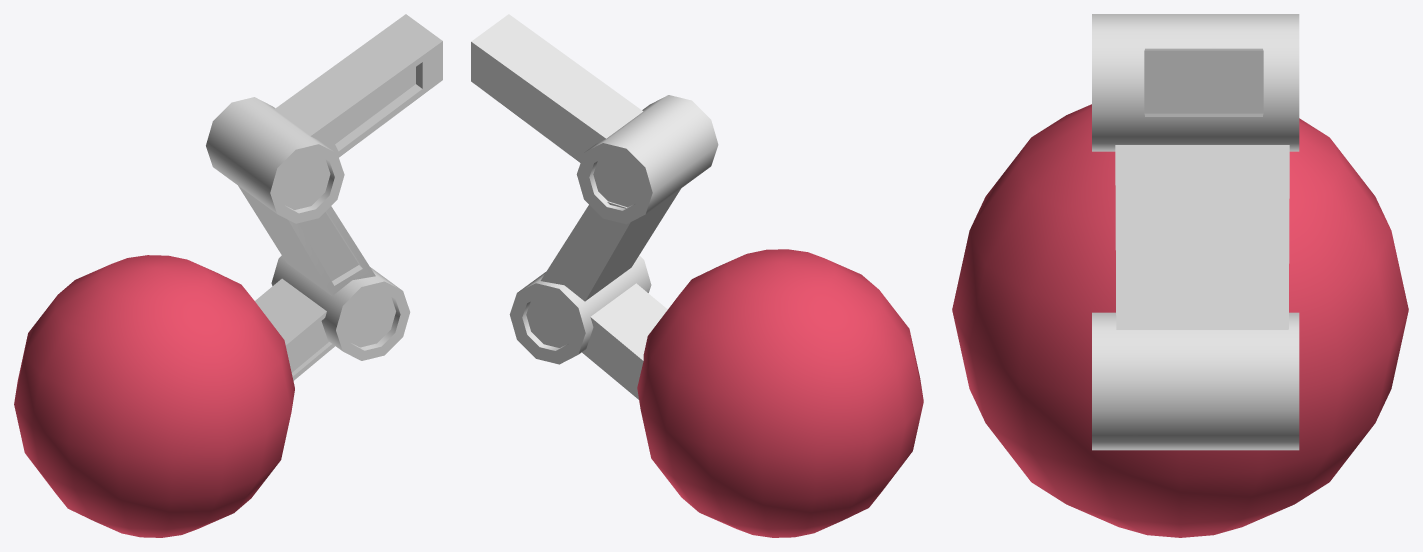
The model's file is circle cryochamber.fbx.
The picture shows the model from 3 angles, left to right: view 1: azimuth 30°, elevation 25°; view 2: azimuth 150°, elevation 25°; view 3: azimuth 270°, elevation 25°; orthographic projection. The views are drawn at different scales.
Parts seen in each view (by area): view 1: circle cryochamber; view 2: circle cryochamber; view 3: circle cryochamber.
Boxes of the visible parts, bbox=[...] form: circle cryochamber: bbox=[14, 14, 442, 537]; circle cryochamber: bbox=[471, 14, 923, 537]; circle cryochamber: bbox=[952, 14, 1408, 537].
Size of the model in its own units: 396 by 402 by 243.
